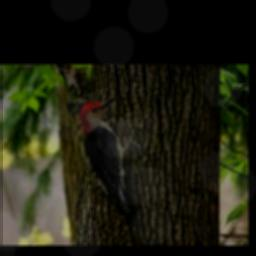Woodpecker: (79, 96, 140, 218)
